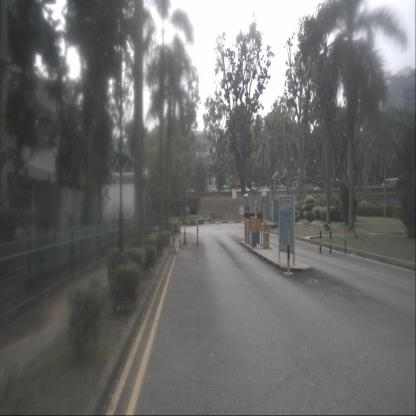cone: (183, 226, 187, 245)
